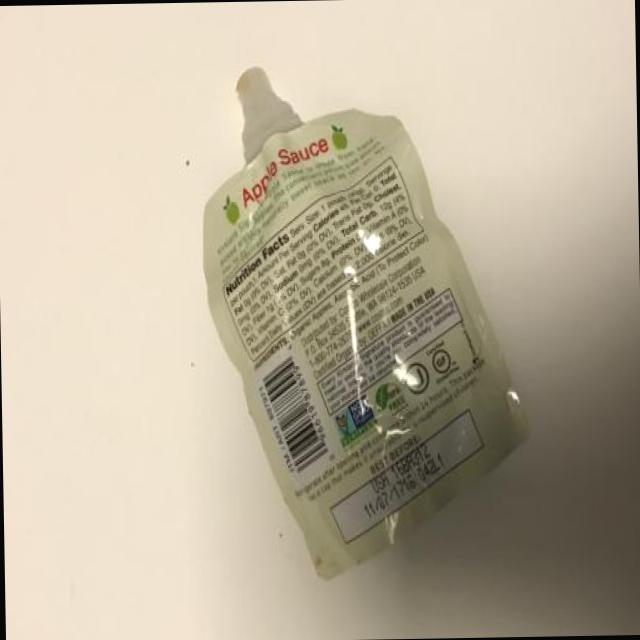Recycle: (200, 64, 536, 582)
